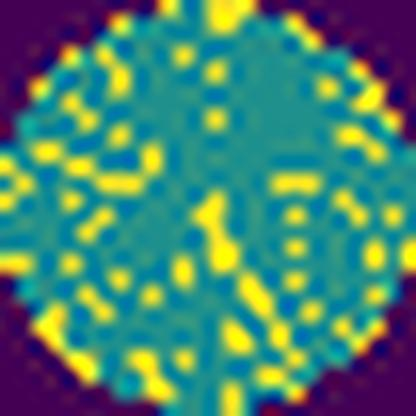Scratch: (185, 185, 277, 326)
